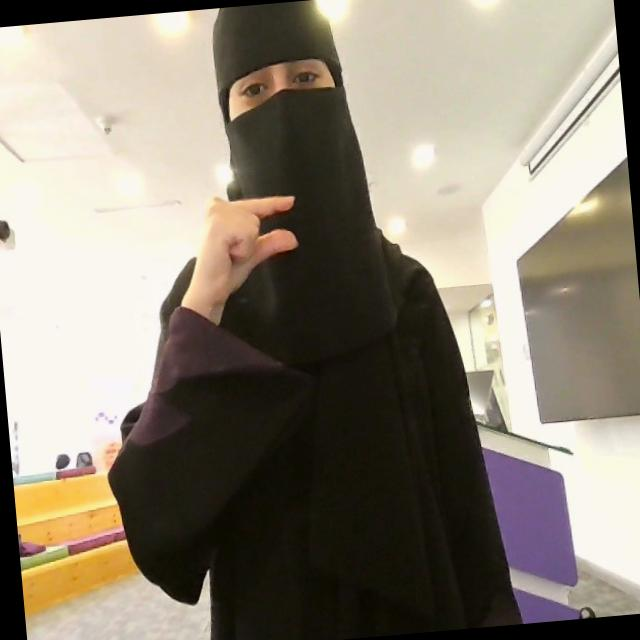fasting: (171, 187, 305, 324)
